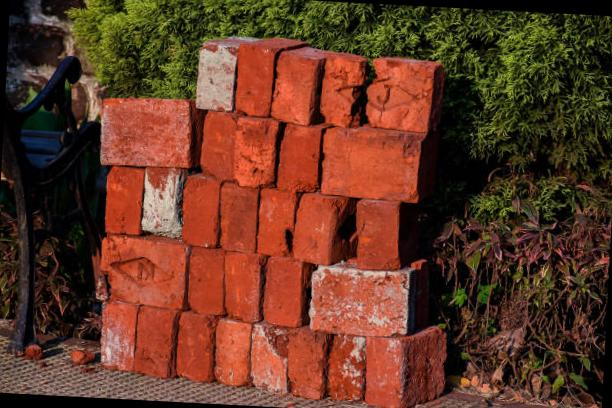brick: (320, 129, 422, 202), (309, 265, 410, 337), (99, 95, 193, 169), (98, 234, 187, 308), (365, 58, 435, 132), (270, 51, 320, 125), (354, 200, 404, 271), (233, 116, 278, 188), (320, 56, 365, 126), (133, 306, 176, 378), (293, 192, 335, 265), (249, 323, 291, 395), (276, 124, 320, 192), (195, 42, 238, 111), (363, 336, 404, 408), (234, 44, 275, 116), (262, 257, 304, 327), (176, 312, 218, 382), (222, 252, 263, 323), (180, 176, 220, 247), (286, 328, 326, 399), (99, 301, 138, 372), (141, 167, 181, 236), (200, 110, 239, 180), (104, 166, 144, 234), (257, 188, 297, 256), (218, 186, 258, 252), (326, 334, 366, 400), (214, 318, 252, 387), (188, 246, 226, 314)
